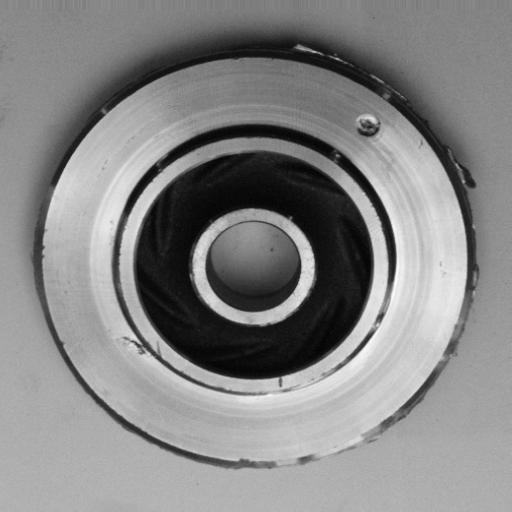casting_with_burr: (29, 40, 484, 473)
crack: (115, 319, 175, 367)
pit: (353, 107, 386, 141)
scratch: (258, 366, 299, 402)
